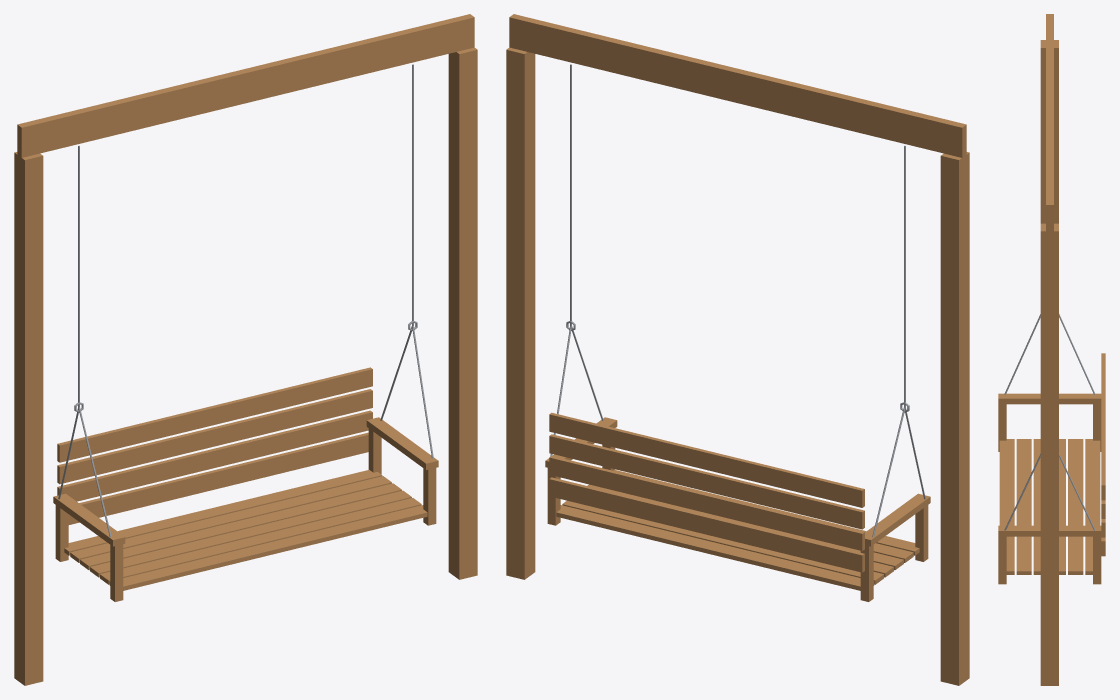
File: swing_porch.mid.glb
The picture shows the model from 3 angles, left to right: view 1: azimuth 30°, elevation 25°; view 2: azimuth 150°, elevation 25°; view 3: azimuth 270°, elevation 25°; orthographic projection. The views are drawn at different scales.
Visible parts, largest first — view 1: bench_swing_porch, swing_porch; view 2: swing_porch, bench_swing_porch; view 3: bench_swing_porch, swing_porch.
Boxes of the visible parts, x1=… form: bench_swing_porch: x1=53, y1=64, x2=438, y2=601; swing_porch: x1=14, y1=14, x2=477, y2=685; swing_porch: x1=506, y1=14, x2=969, y2=685; bench_swing_porch: x1=545, y1=64, x2=930, y2=601; bench_swing_porch: x1=998, y1=313, x2=1105, y2=584; swing_porch: x1=1040, y1=14, x2=1058, y2=685.
Size of the model in its own units: 2.2 by 2.58 by 0.52.
